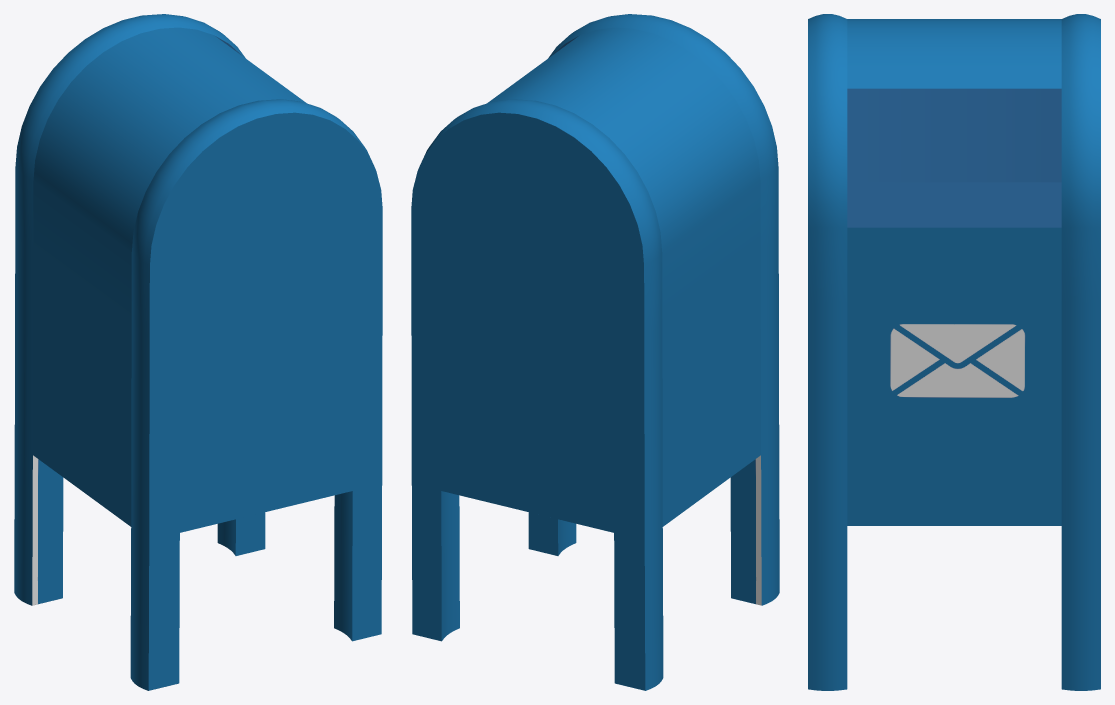
The model's file is MailBox.fbx.
The picture shows the model from 3 angles, left to right: view 1: azimuth 30°, elevation 25°; view 2: azimuth 150°, elevation 25°; view 3: azimuth 270°, elevation 25°; orthographic projection. The views are drawn at different scales.
Parts seen in each view (by area): view 1: US Mail Box; view 2: US Mail Box; view 3: US Mail Box.
Boxes of the visible parts, left/top/right/bottom form: US Mail Box: left=14, top=14, right=382, bottom=690; US Mail Box: left=411, top=14, right=779, bottom=690; US Mail Box: left=808, top=14, right=1100, bottom=690.
Bounding box in the file's own units: 206 × 452 × 200.
